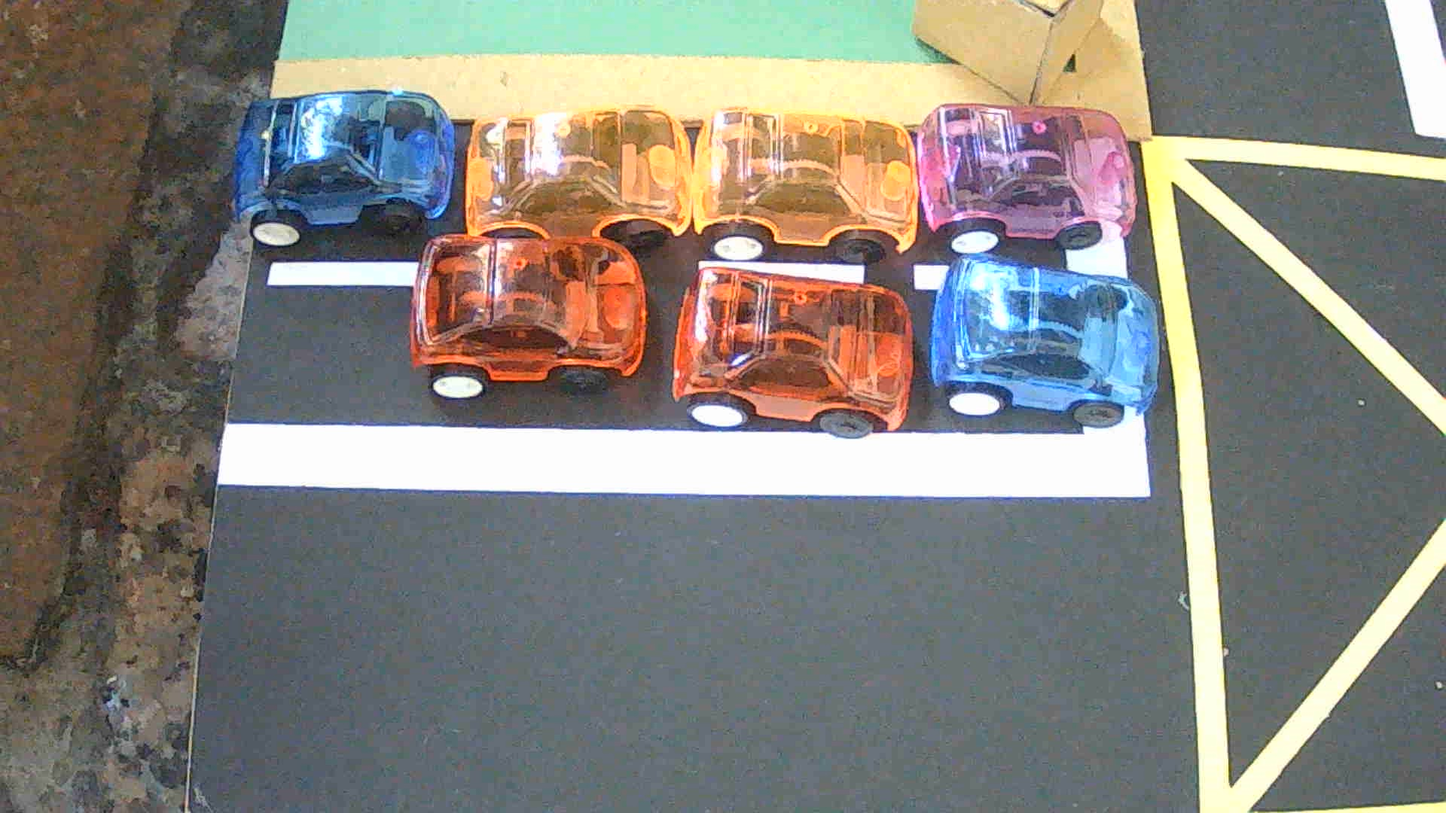Mobil biru: (929, 254, 1160, 428), (233, 90, 455, 247)
Mobil merah: (672, 266, 913, 437), (409, 236, 647, 397)
Mobil orange: (691, 107, 918, 264), (465, 108, 690, 252)
Mobil ungu: (916, 104, 1136, 254)
